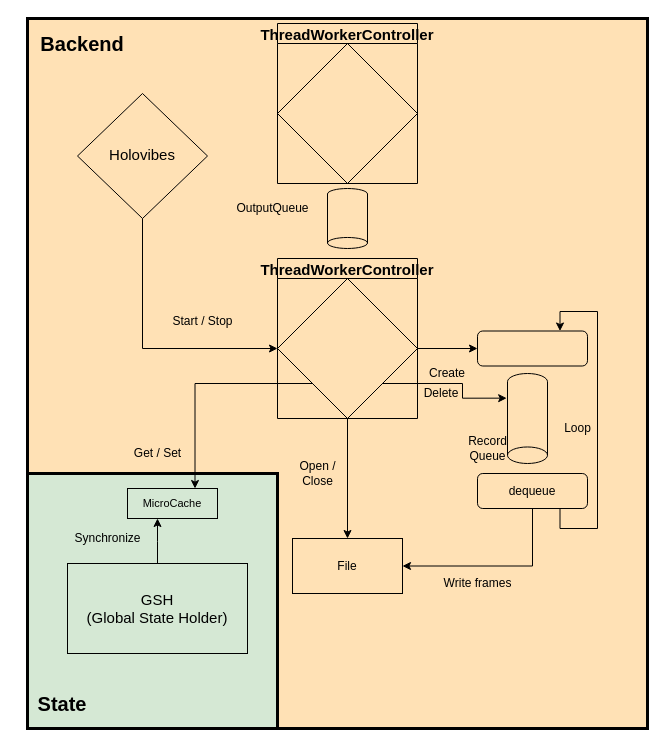
Image size: 666x747. Some labels were removed from this diagram. Each missing label, with the centre of its shape:
"ComputeWorker" goes at pixel 347 113.
"FrameRecord Worker" goes at pixel 347 348.
"wait_frames" goes at pixel 532 348.
